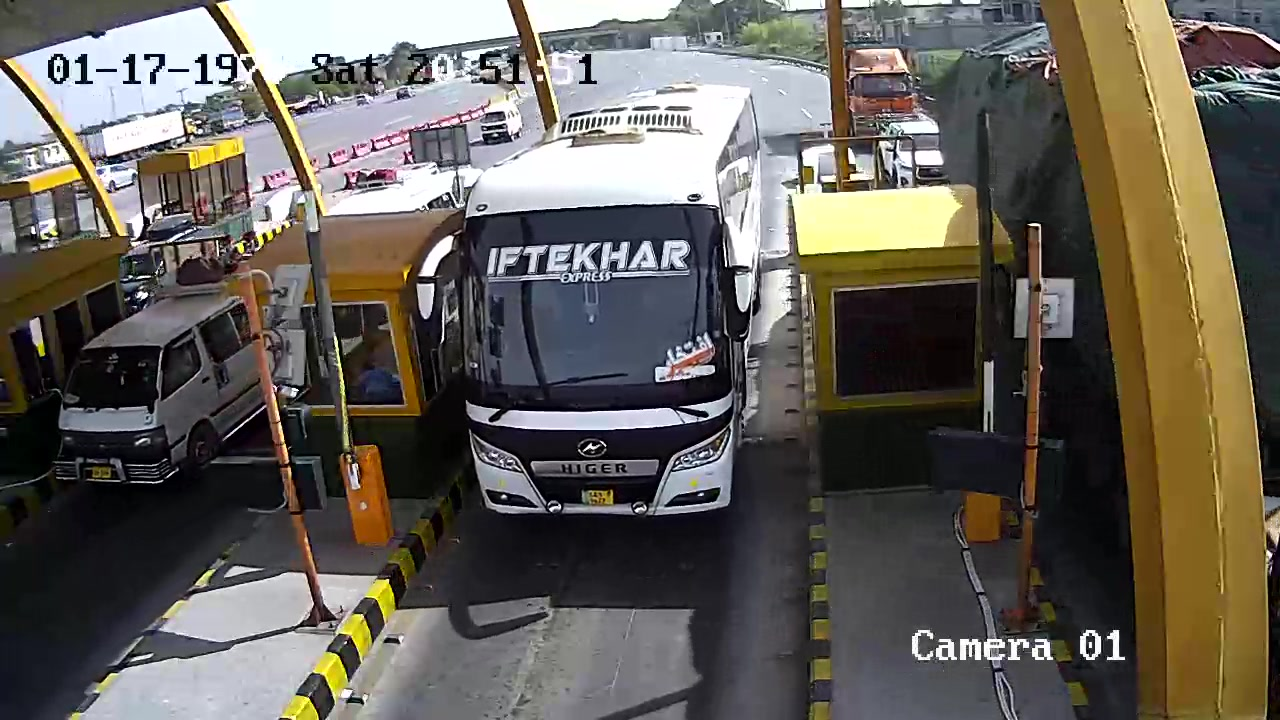F4: (462, 78, 765, 523)
